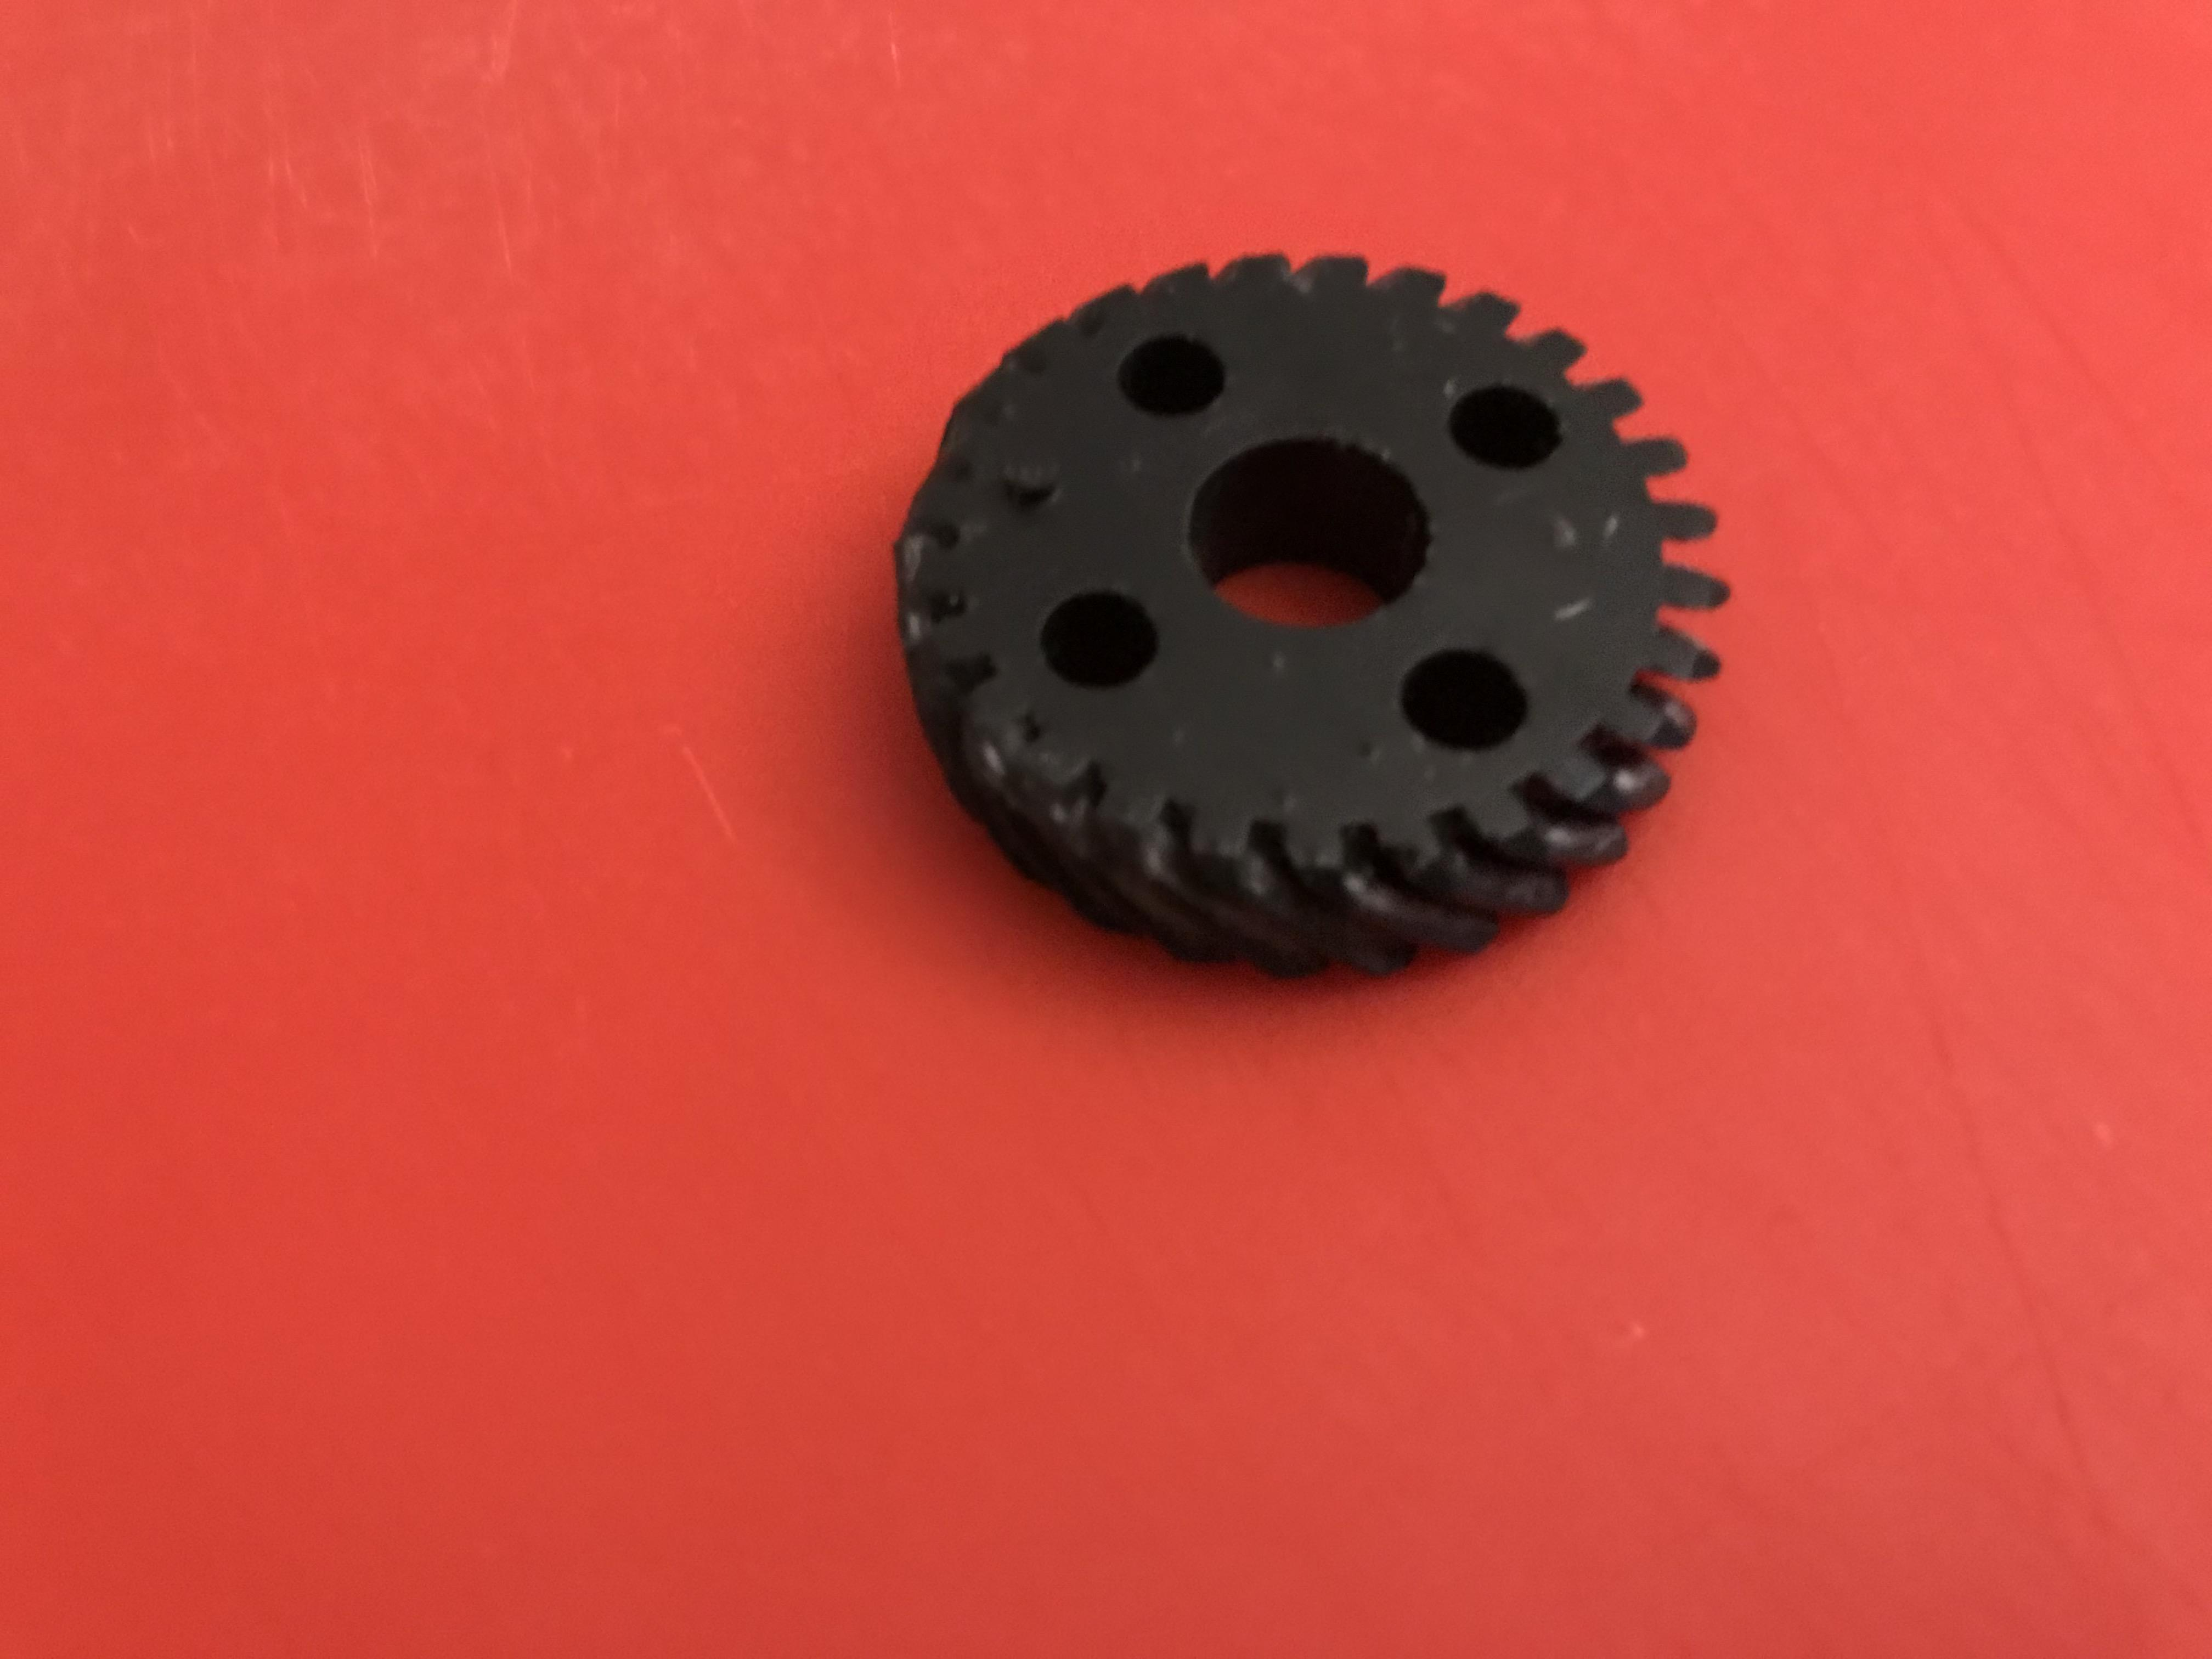Wheel: (902, 239, 1709, 993)
